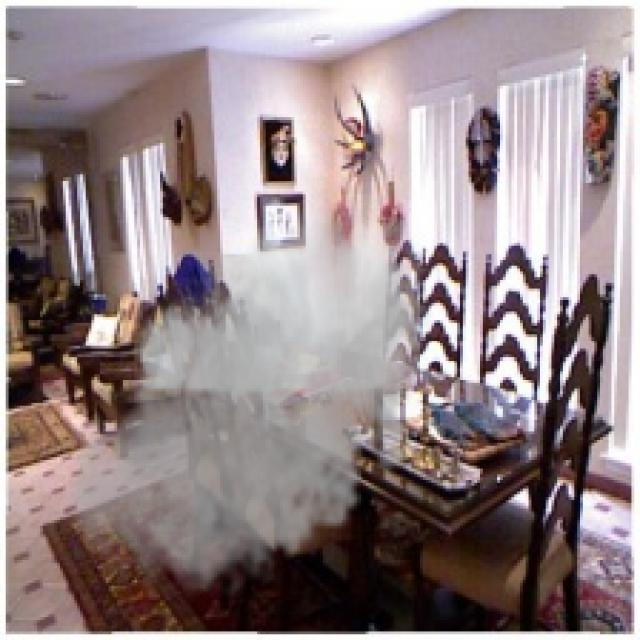smoke: (63, 194, 434, 609)
